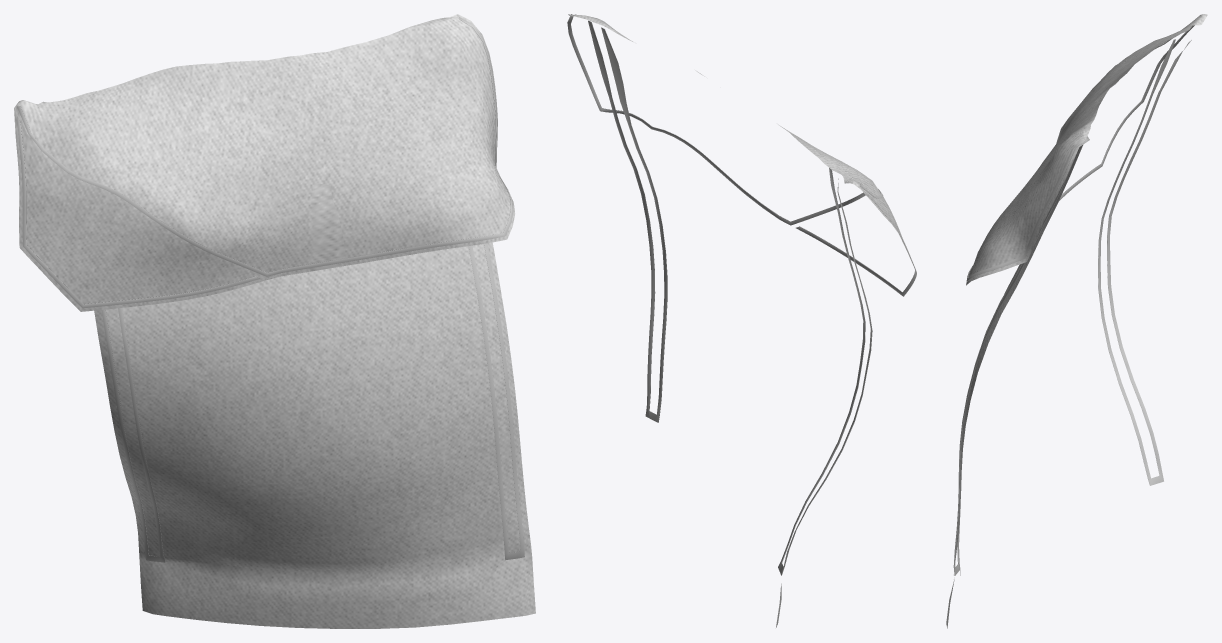
The model's file is Jac_Pocket_LEFT_V2.glb.
The picture shows the model from 3 angles, left to right: view 1: azimuth 30°, elevation 25°; view 2: azimuth 150°, elevation 25°; view 3: azimuth 270°, elevation 25°; orthographic projection. The views are drawn at different scales.
Parts seen in each view (by area): view 1: Jac_Pocket_LEFT_V21, Rope1; view 2: Rope1, Jac_Pocket_LEFT_V21; view 3: Jac_Pocket_LEFT_V21, Rope1.
Part boxes in pixels (x1,y1,x2,y2): Jac_Pocket_LEFT_V21: [14, 14, 535, 628]; Rope1: [17, 17, 524, 562]; Rope1: [567, 14, 916, 575]; Jac_Pocket_LEFT_V21: [568, 14, 914, 627]; Jac_Pocket_LEFT_V21: [946, 14, 1207, 628]; Rope1: [953, 15, 1200, 575].
Bounding box in the file's own units: 0.2152 × 0.2734 × 0.1268.
2 materials, 2 textured.
